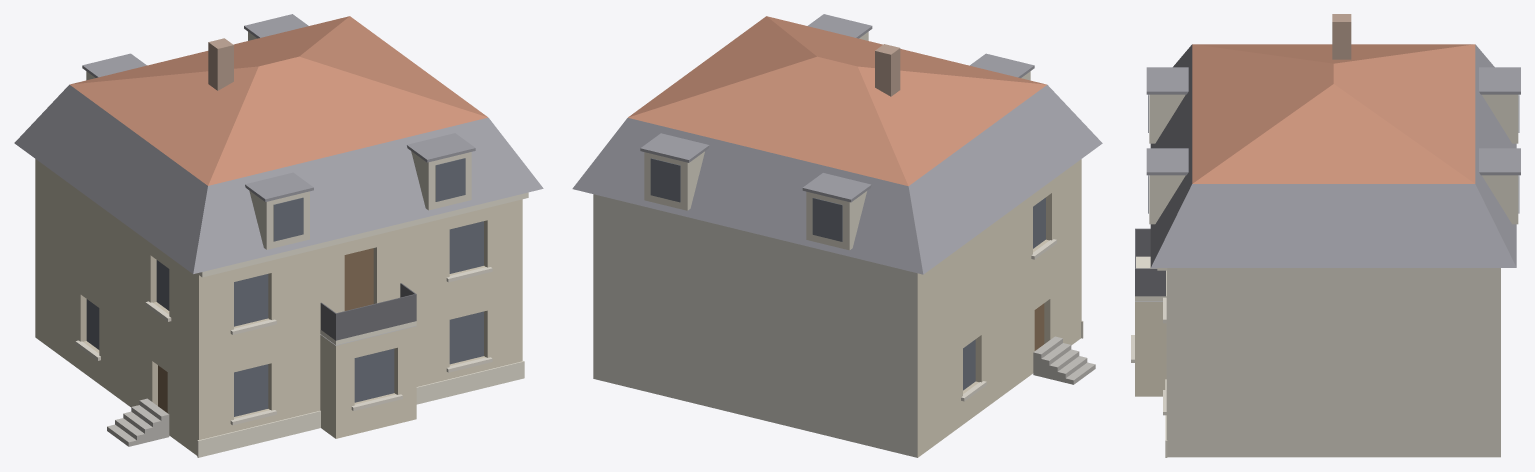
3 views of the same model, side by side, from view 1: azimuth 30°, elevation 25°; view 2: azimuth 150°, elevation 25°; view 3: azimuth 270°, elevation 25° (orthographic). The views are drawn at different scales.
Visible parts, largest first — view 1: CP_1867_Masonry, CP_1867_Roof_Upper, CP_1867_Roof_Lower, CP_1867_Vol_bay, CP_1867_Cornice_main_plinth_0, CP_1867_Balcony_0_rail_f, CP_1867_Cornice_main_eave_0, CP_1867_Roof_MW1, CP_1867_Roof_MW0, CP_1867_Roof_MW1_cap, CP_1867_Roof_MW0_cap, CP_1867_Chimney_0 (+4 smaller); view 2: CP_1867_Masonry, CP_1867_Roof_Upper, CP_1867_Roof_Lower, CP_1867_Roof_MW2, CP_1867_Roof_MW3, CP_1867_Roof_MW3_cap, CP_1867_Roof_MW2_cap, CP_1867_Chimney_0, CP_1867_Roof_MW3_glass, CP_1867_Roof_MW2_glass, CP_1867_Roof_MW1_cap, CP_1867_Roof_MW0_cap; view 3: CP_1867_Masonry, CP_1867_Roof_Upper, CP_1867_Roof_Lower, CP_1867_Vol_bay, CP_1867_Roof_MW0_cap, CP_1867_Roof_MW1_cap, CP_1867_Roof_MW2_cap, CP_1867_Roof_MW3_cap, CP_1867_Roof_MW2, CP_1867_Roof_MW3, CP_1867_Roof_MW0, CP_1867_Roof_MW1 (+3 smaller).
Part boxes in pixels (bbox=[...]): CP_1867_Masonry: bbox=[35, 159, 522, 455]; CP_1867_Roof_Upper: bbox=[70, 16, 487, 185]; CP_1867_Roof_Lower: bbox=[14, 84, 543, 274]; CP_1867_Vol_bay: bbox=[320, 326, 416, 438]; CP_1867_Cornice_main_plinth_0: bbox=[197, 361, 524, 457]; CP_1867_Balcony_0_rail_f: bbox=[335, 294, 416, 340]; CP_1867_Cornice_main_eave_0: bbox=[197, 192, 528, 277]; CP_1867_Roof_MW1: bbox=[411, 151, 471, 210]; CP_1867_Roof_MW0: bbox=[249, 190, 309, 249]; CP_1867_Roof_MW1_cap: bbox=[407, 133, 475, 162]; CP_1867_Roof_MW0_cap: bbox=[245, 172, 313, 201]; CP_1867_Chimney_0: bbox=[208, 38, 233, 90]; CP_1867_Masonry: bbox=[593, 159, 1081, 457]; CP_1867_Roof_Upper: bbox=[628, 16, 1046, 186]; CP_1867_Roof_Lower: bbox=[572, 85, 1102, 274]; CP_1867_Roof_MW2: bbox=[806, 191, 866, 250]; CP_1867_Roof_MW3: bbox=[644, 151, 704, 210]; CP_1867_Roof_MW3_cap: bbox=[640, 133, 709, 162]; CP_1867_Roof_MW2_cap: bbox=[802, 173, 871, 202]; CP_1867_Chimney_0: bbox=[875, 44, 900, 96]; CP_1867_Roof_MW3_glass: bbox=[650, 158, 680, 202]; CP_1867_Roof_MW2_glass: bbox=[812, 198, 842, 241]; CP_1867_Roof_MW1_cap: bbox=[808, 14, 872, 38]; CP_1867_Roof_MW0_cap: bbox=[970, 53, 1034, 77]; CP_1867_Masonry: bbox=[1166, 268, 1500, 457]; CP_1867_Roof_Upper: bbox=[1192, 44, 1475, 183]; CP_1867_Roof_Lower: bbox=[1150, 44, 1516, 267]; CP_1867_Vol_bay: bbox=[1135, 301, 1166, 396]; CP_1867_Roof_MW0_cap: bbox=[1146, 67, 1188, 94]; CP_1867_Roof_MW1_cap: bbox=[1146, 148, 1188, 175]; CP_1867_Roof_MW2_cap: bbox=[1479, 67, 1520, 94]; CP_1867_Roof_MW3_cap: bbox=[1479, 148, 1520, 175]; CP_1867_Roof_MW2: bbox=[1482, 94, 1518, 143]; CP_1867_Roof_MW3: bbox=[1482, 175, 1518, 224]; CP_1867_Roof_MW0: bbox=[1149, 94, 1185, 143]; CP_1867_Roof_MW1: bbox=[1149, 175, 1185, 224].
Bounding box in the file's own units: 14.06 × 11.5 × 12.25.
